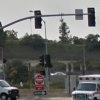traffic lights: (88, 7, 96, 27), (36, 11, 43, 30)
